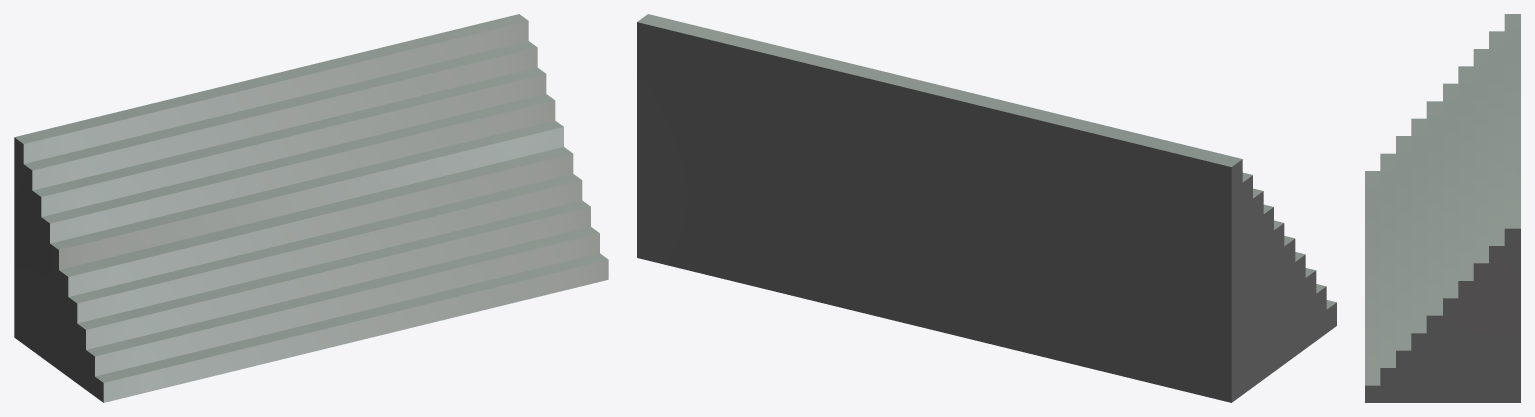
3 views of the same model, side by side, from view 1: azimuth 30°, elevation 25°; view 2: azimuth 150°, elevation 25°; view 3: azimuth 270°, elevation 25° (orthographic). The views are drawn at different scales.
Visible parts, largest first — view 1: stairs_04; view 2: stairs_04; view 3: stairs_04.
Part boxes in pixels (x1=…): stairs_04: x1=14, y1=14, x2=608, y2=402; stairs_04: x1=637, y1=14, x2=1336, y2=402; stairs_04: x1=1365, y1=14, x2=1520, y2=402.
Size of the model in its own units: 1.85 by 0.7007 by 0.5673.
1 material, 1 textured.
